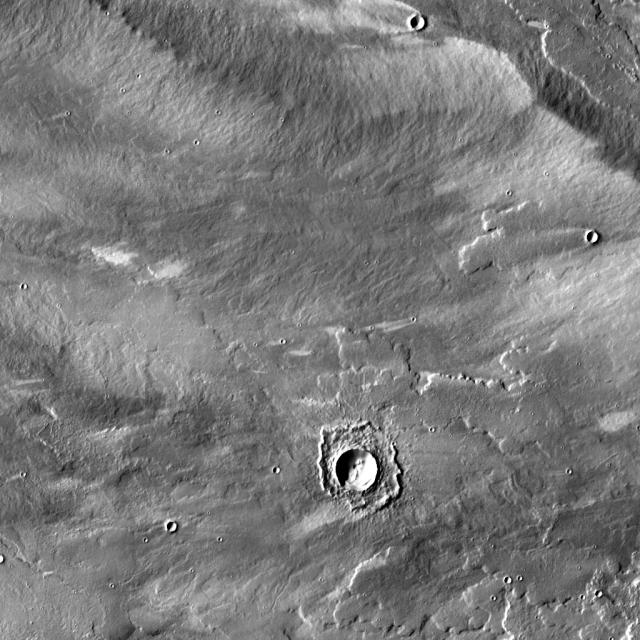crater: (338, 450, 378, 490), (411, 17, 425, 31), (589, 231, 601, 243), (169, 521, 179, 530), (500, 570, 508, 576), (589, 584, 596, 590), (268, 460, 274, 466)
